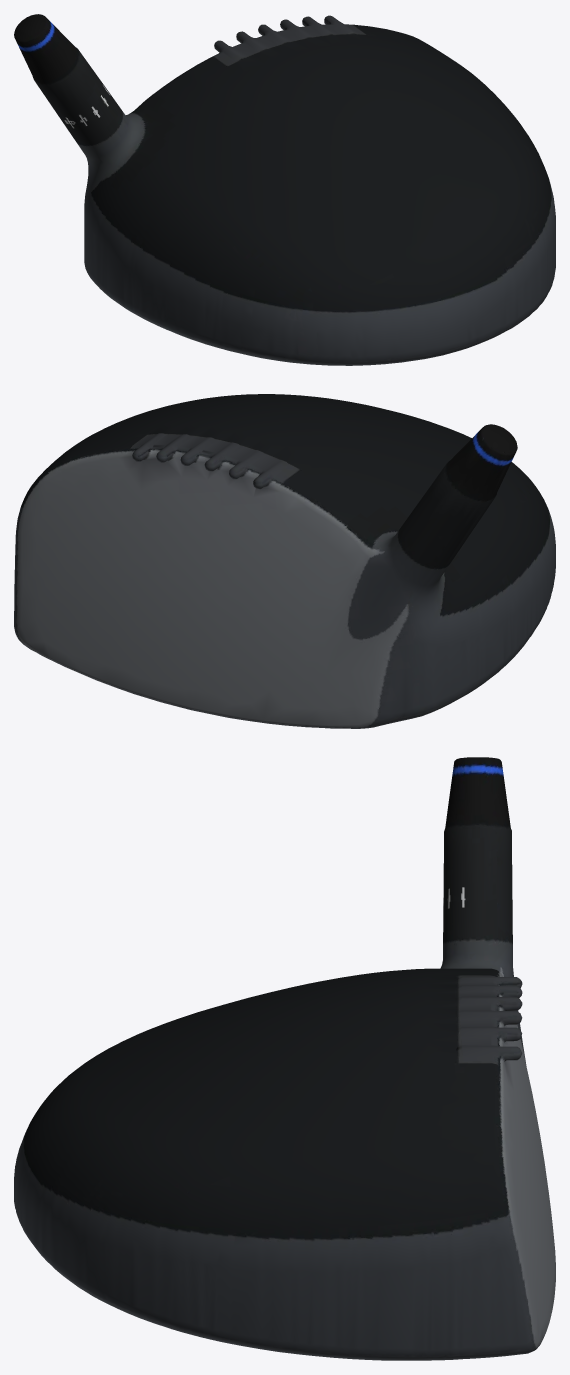
3 views of the same model, one above another, from view 1: azimuth 30°, elevation 25°; view 2: azimuth 150°, elevation 25°; view 3: azimuth 270°, elevation 25° (orthographic). The views are drawn at different scales.
Parts seen in each view (by area): view 1: head; view 2: head; view 3: head.
Part boxes in pixels (<box>): head: <box>14,14,555,365</box>; head: <box>14,394,555,728</box>; head: <box>14,757,555,1360</box>.
Size of the model in its own units: 0.1345 by 0.0835 by 0.1106.
Materials: 1 (1 with a texture image).
